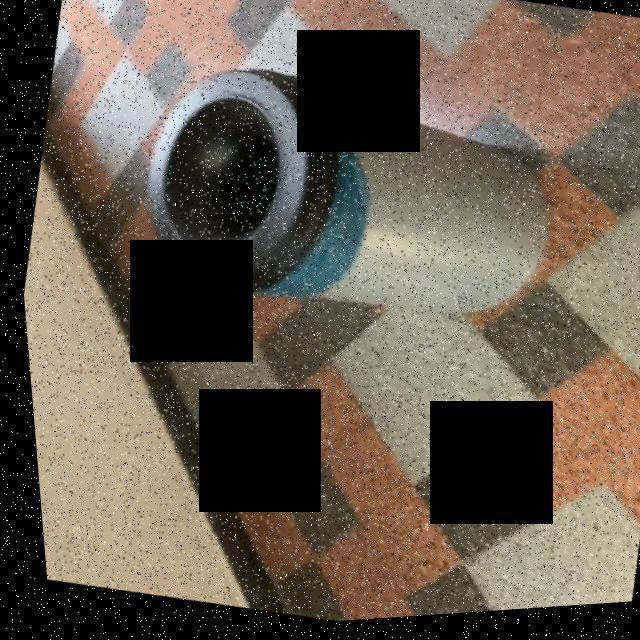bin: (88, 12, 616, 394)
